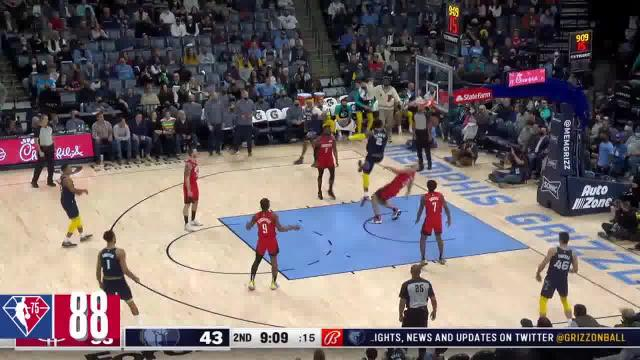ball-handler: (348, 99, 391, 198)
player: (248, 197, 303, 288), (533, 229, 581, 329), (366, 157, 424, 238), (96, 229, 140, 316), (416, 180, 457, 264), (58, 162, 94, 253), (170, 146, 207, 231), (312, 122, 339, 201), (294, 96, 325, 162)
